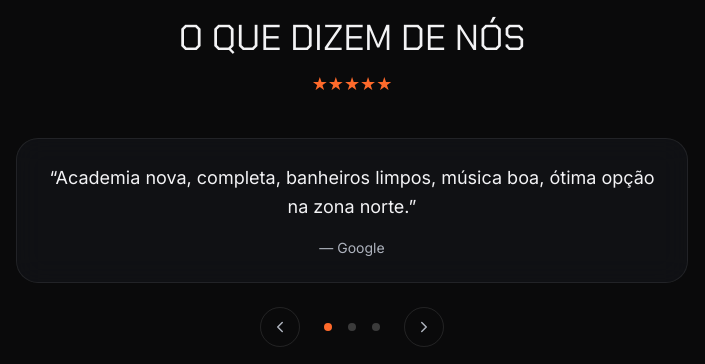
Depoimentos › wraps to the last review when going previous from the first slide
The width and height of the screenshot is (705, 364).
Click the button named "Depoimento anterior": (280, 326) 260,306 -> 300,346
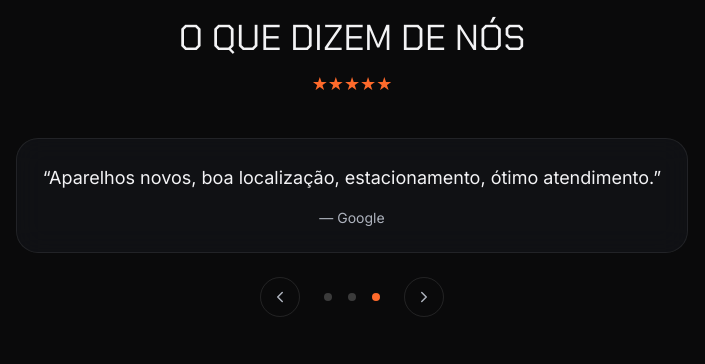
Expected: the text "Aparelhos novos, boa localização, estacionamento, ótimo atendimento." is shown, 49,167 -> 653,188
